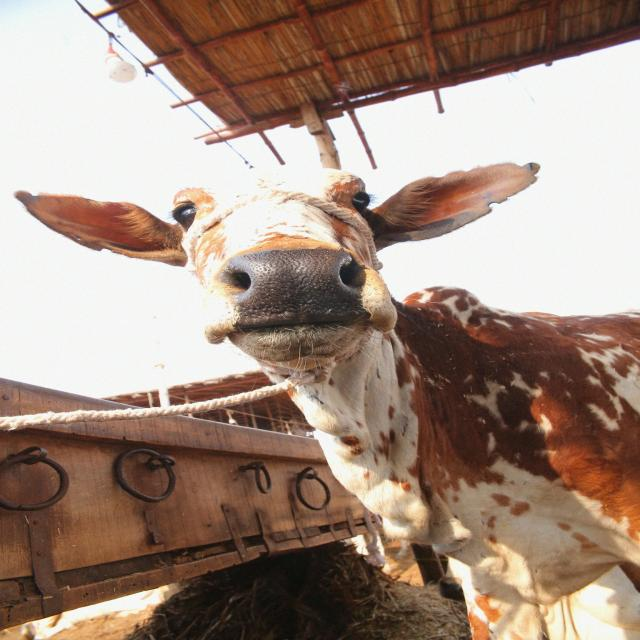muzzles: (198, 242, 388, 334)
